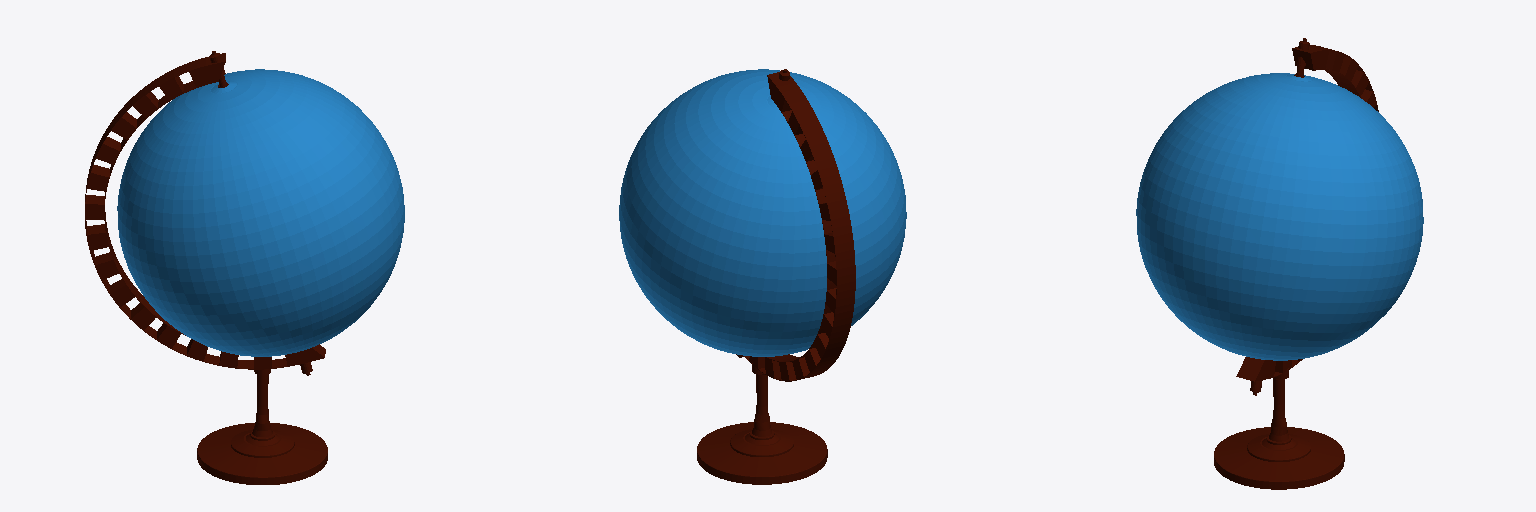
Rendered from globe.obj.
The picture shows the model from 3 angles: view 1: azimuth 30°, elevation 25°; view 2: azimuth 150°, elevation 25°; view 3: azimuth 270°, elevation 25°; orthographic projection.
Visible parts, largest first — view 1: globe_globe_Panel001; view 2: globe_globe_Panel001; view 3: globe_globe_Panel001.
Part boxes in pixels (x1,y1,x2,y2): globe_globe_Panel001: (85,51,404,484); globe_globe_Panel001: (619,69,906,484); globe_globe_Panel001: (1136,38,1423,489).
Bounding box in the file's own units: 0.0748 × 0.112 × 0.0718.